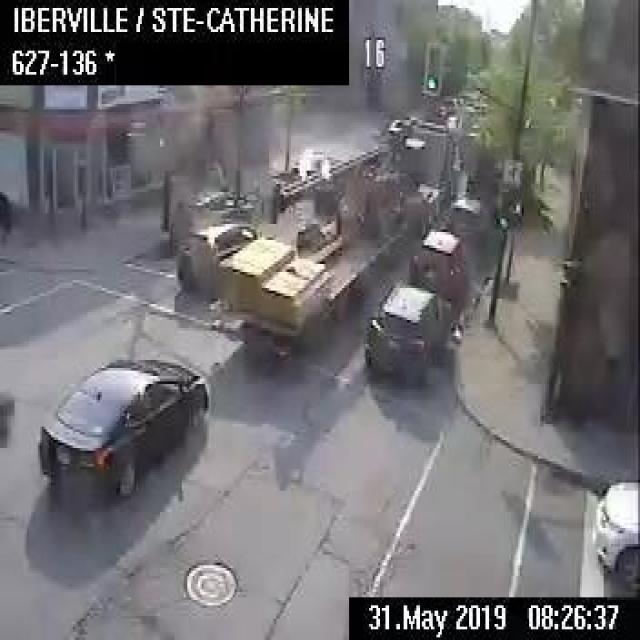vehicle: (215, 110, 466, 348), (36, 356, 207, 504), (365, 278, 451, 380), (172, 222, 258, 302), (170, 185, 262, 253), (591, 477, 638, 592), (408, 224, 468, 298), (446, 197, 489, 255)
